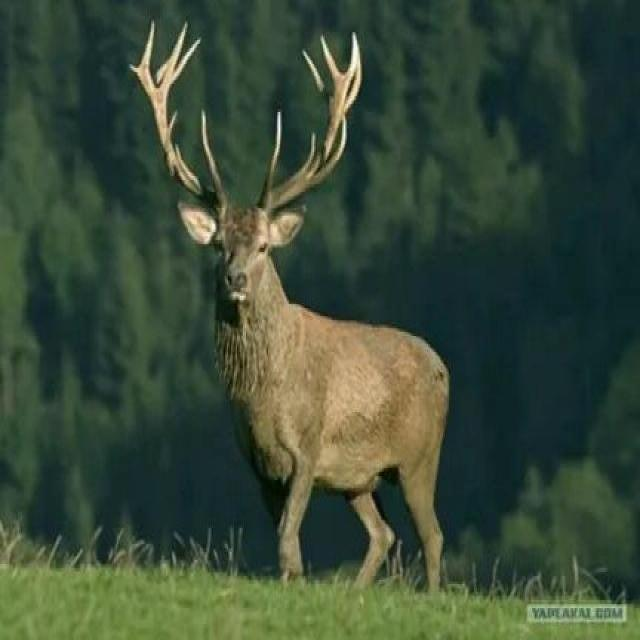deer: (124, 120, 450, 588)
